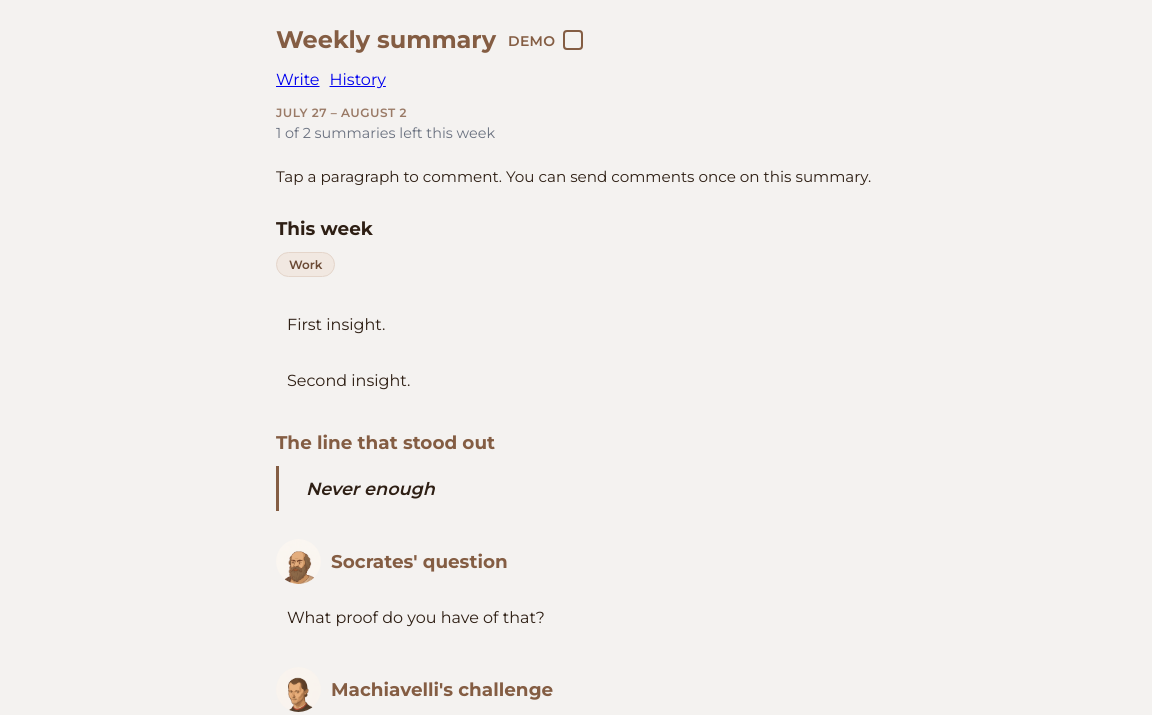
Test: JournalSummary page states › hides send comments after a revise rate limit and keeps regenerate
Click the button "First insight.": click(336, 325) [276,303,876,347]
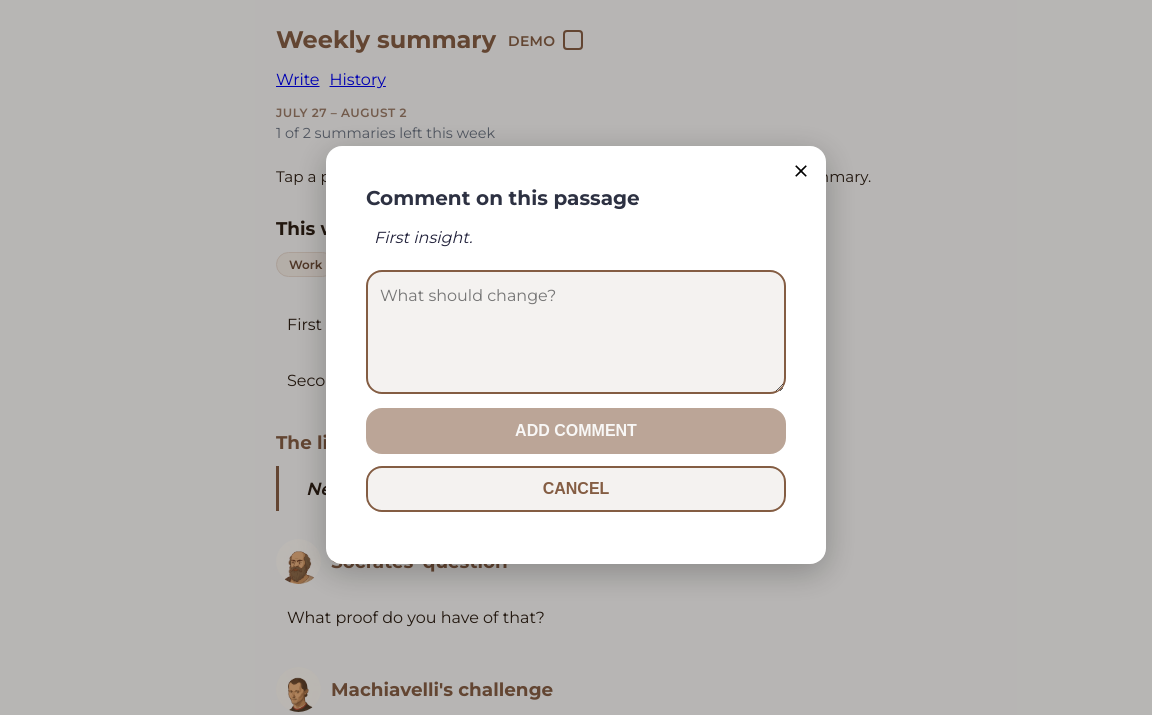
In the text box with placeholder "What should change?": (576, 332) [366,270,786,394], type "Soften this."
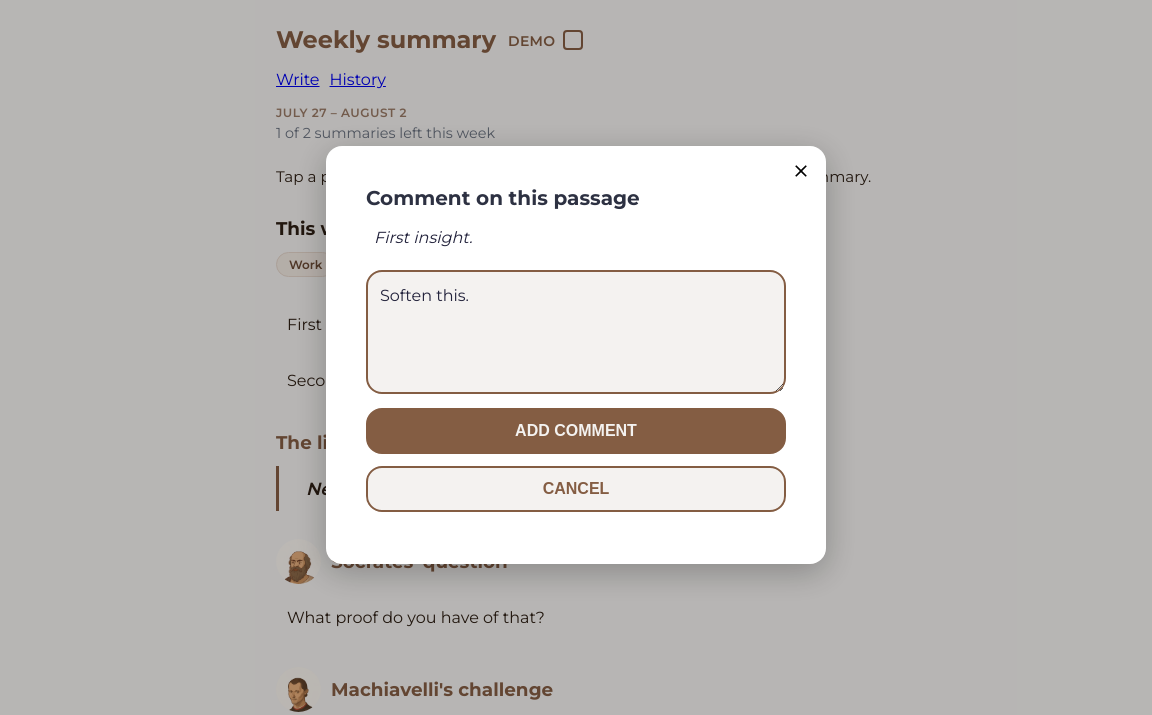
Click the button "ADD COMMENT": click(576, 431) [366,408,786,454]
(page scrolled)
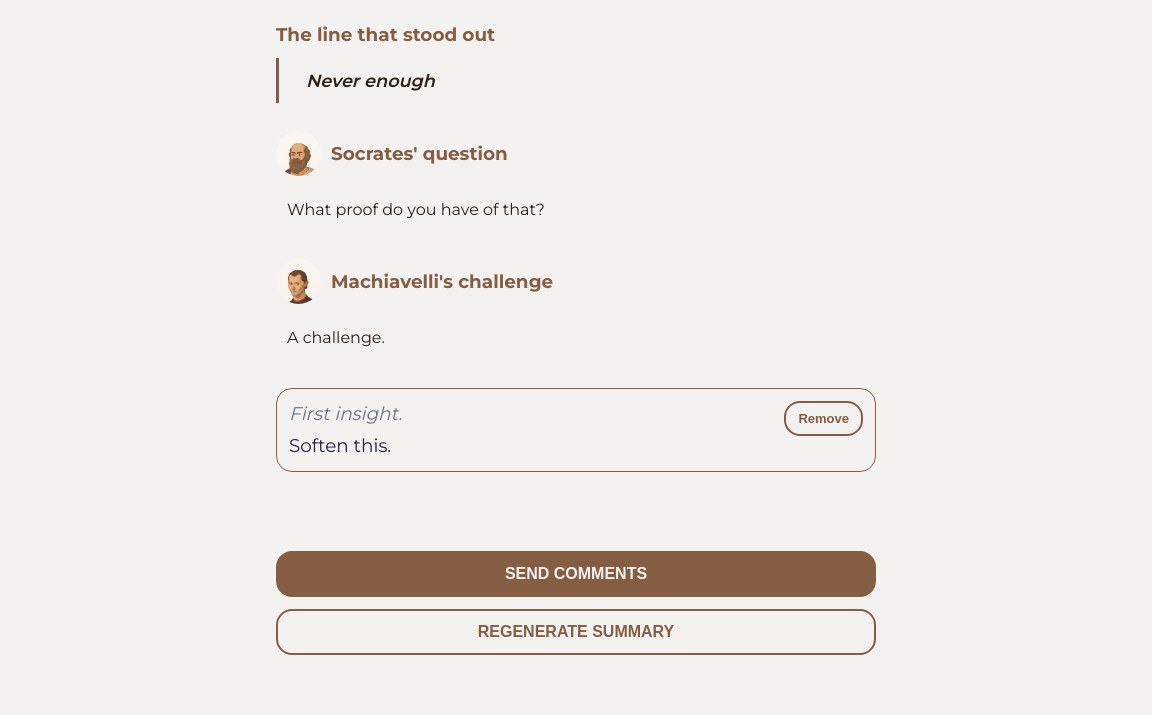
Click the button "SEND COMMENTS": click(576, 574) [276,551,876,597]
(page scrolled)
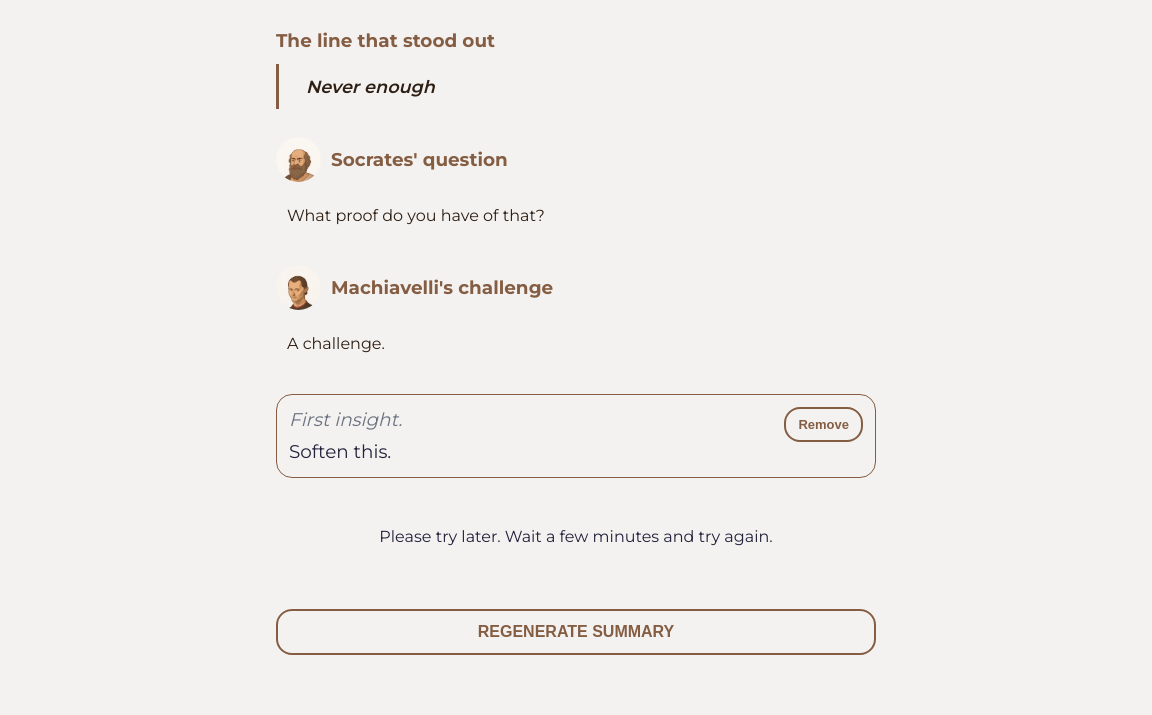
Expected: the button "SEND COMMENTS" is not shown
Expected: the text "Please try later. Wait a few minutes and try again." is shown, [379,527,773,546]
